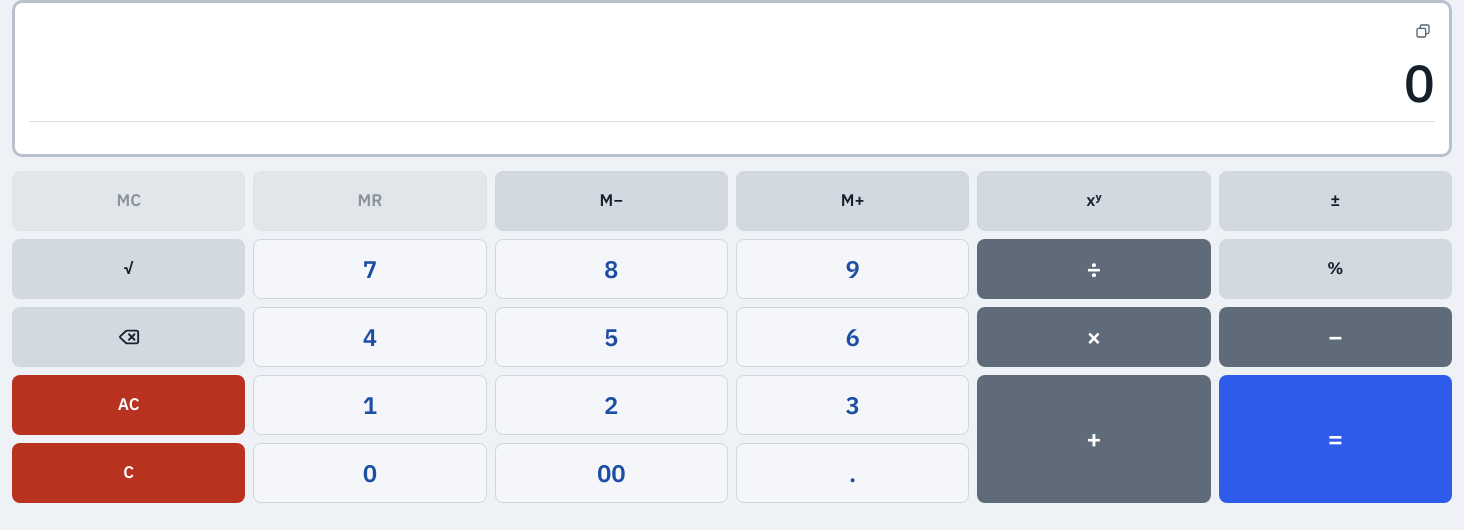
Test: Calculator › repeats the number on screen when = follows an operator
Click the button "5".
click(611, 337)  # box [495,307,728,367]
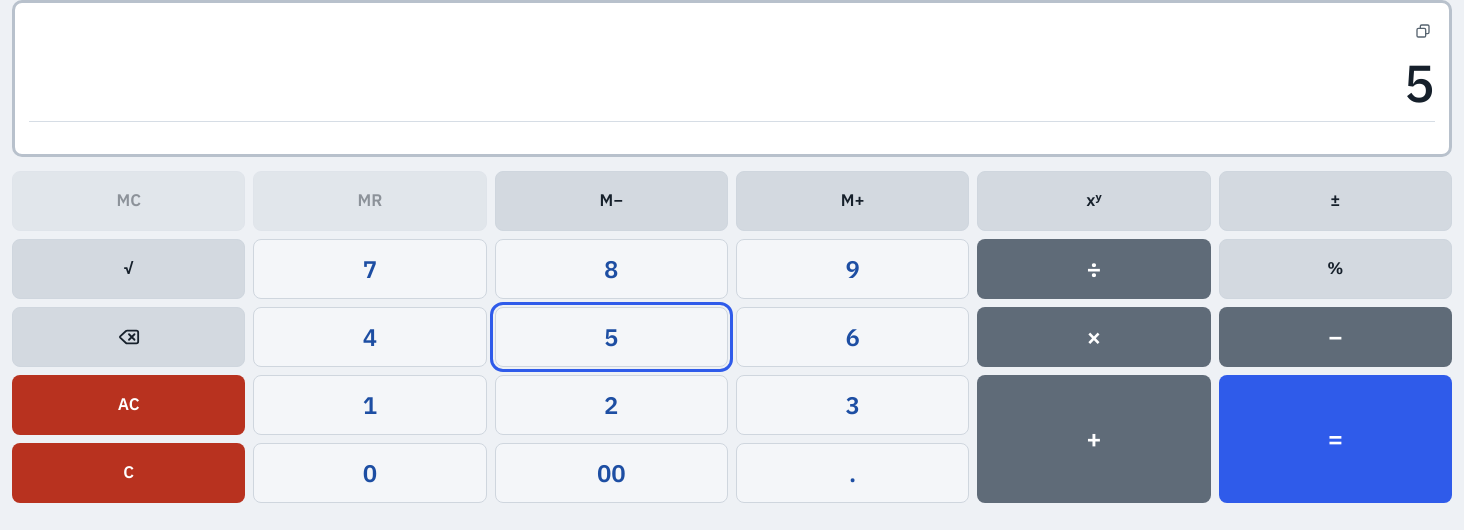
Click the button named "Add".
click(1094, 439)  # box [977,375,1211,503]
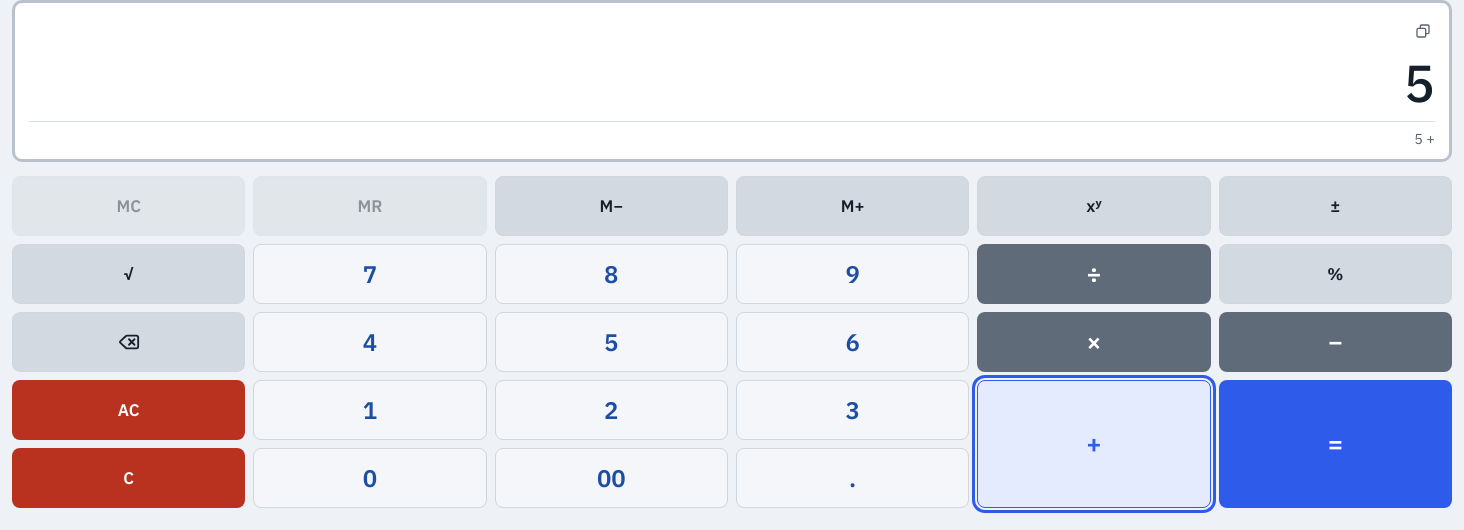
Click the button named "Equals".
click(1335, 444)  # box [1219,380,1452,508]
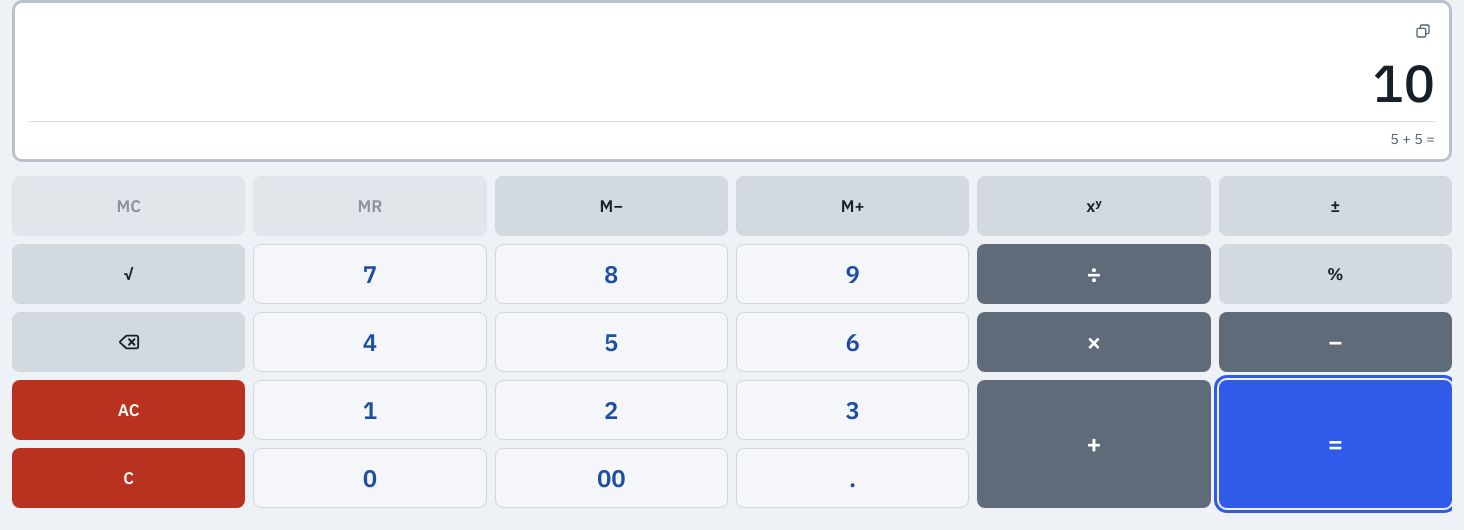
Check: the text with test id "result" reads "10", box [1373,49,1435,116]
